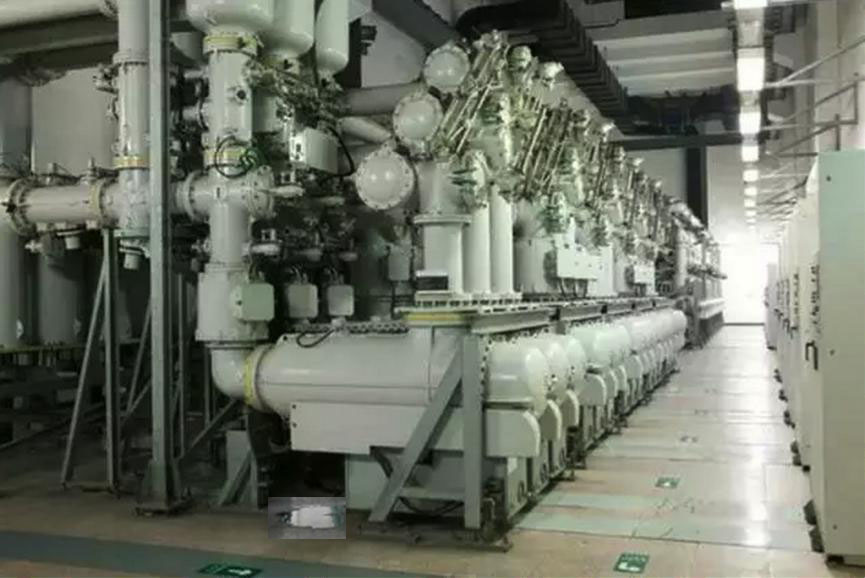oil: (270, 498, 346, 542)
